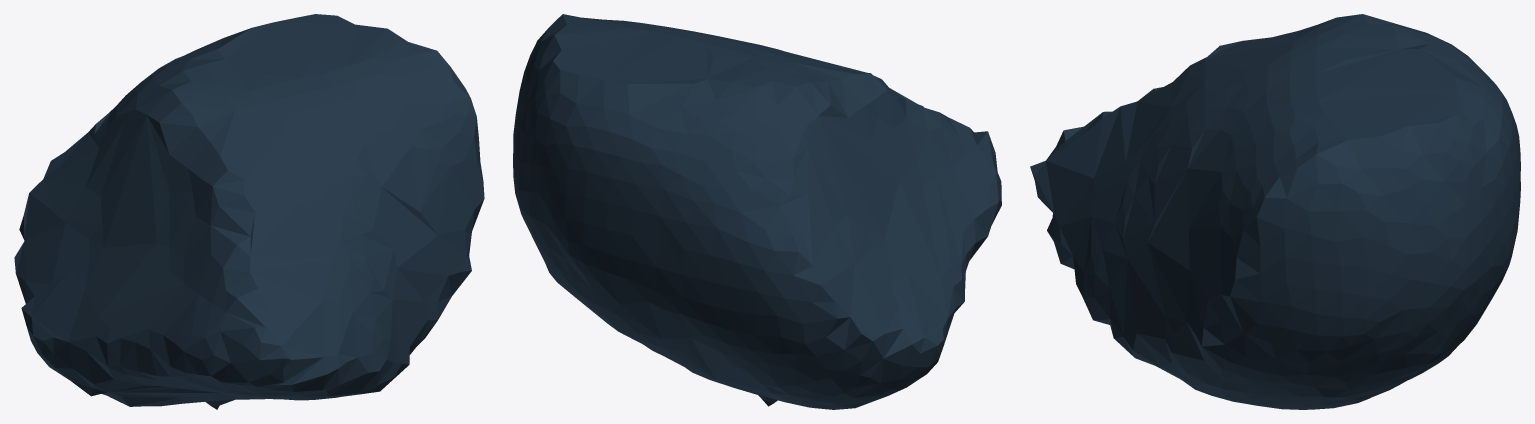
File: Model_316_RH__Ventral_posterolateral_thalamic_nucleus_(VPL).obj
3 views of the same model, side by side, from view 1: azimuth 30°, elevation 25°; view 2: azimuth 150°, elevation 25°; view 3: azimuth 270°, elevation 25° (orthographic). The views are drawn at different scales.
Size of the model in its own units: 1.68 by 1.28 by 1.55.
